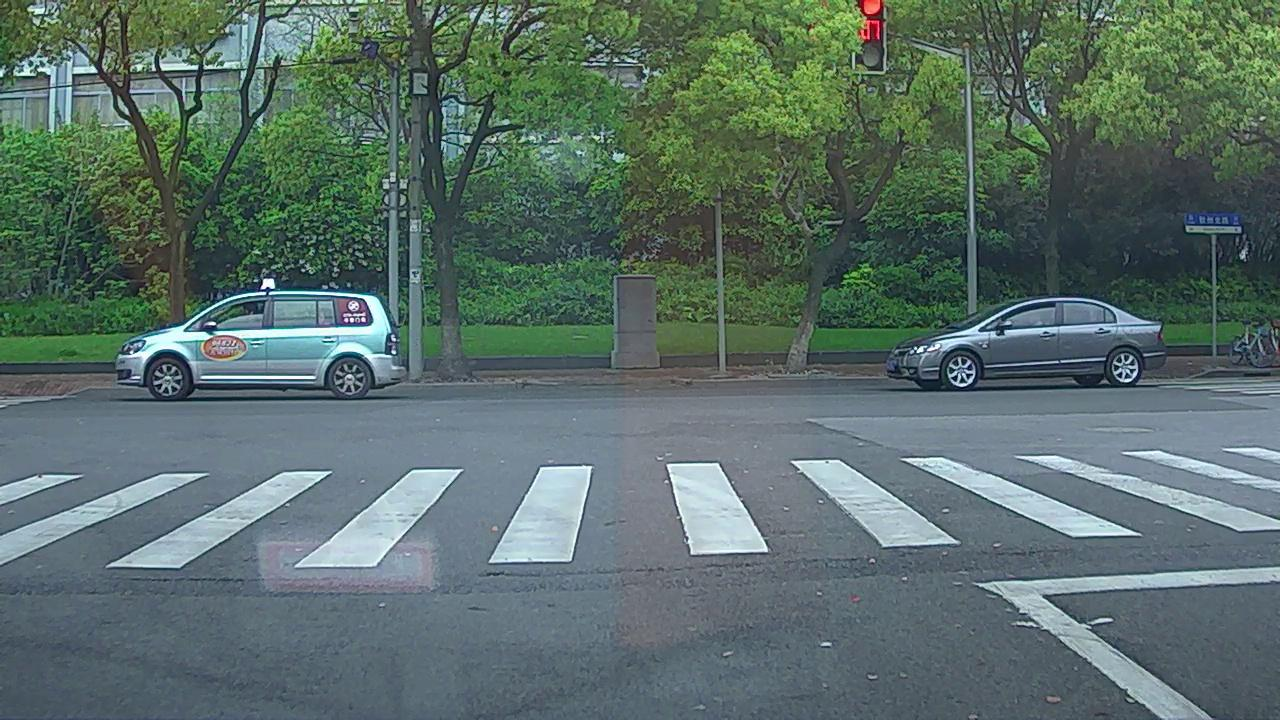traffic_light: (855, 1, 885, 70)
